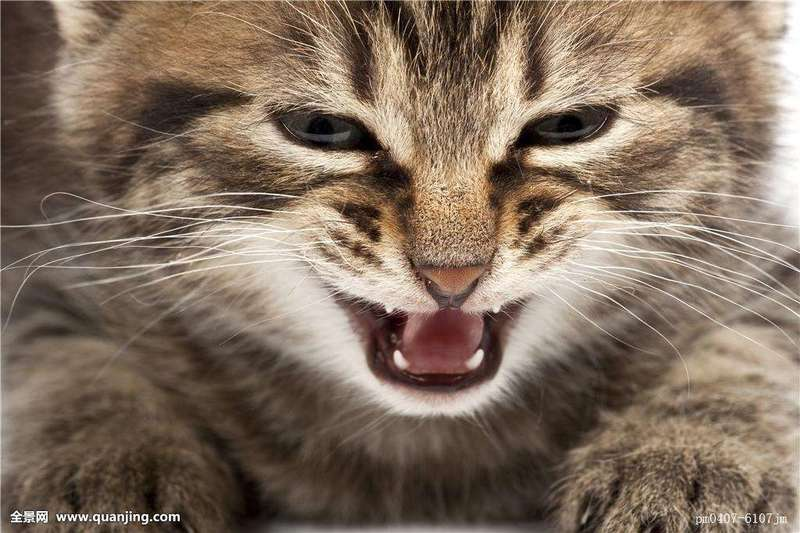cat: (68, 14, 767, 436)
